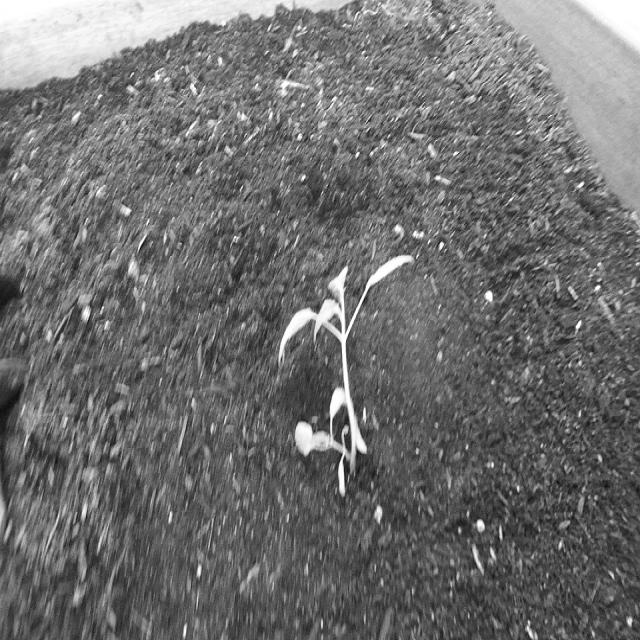Healthy: (277, 246, 419, 500)
